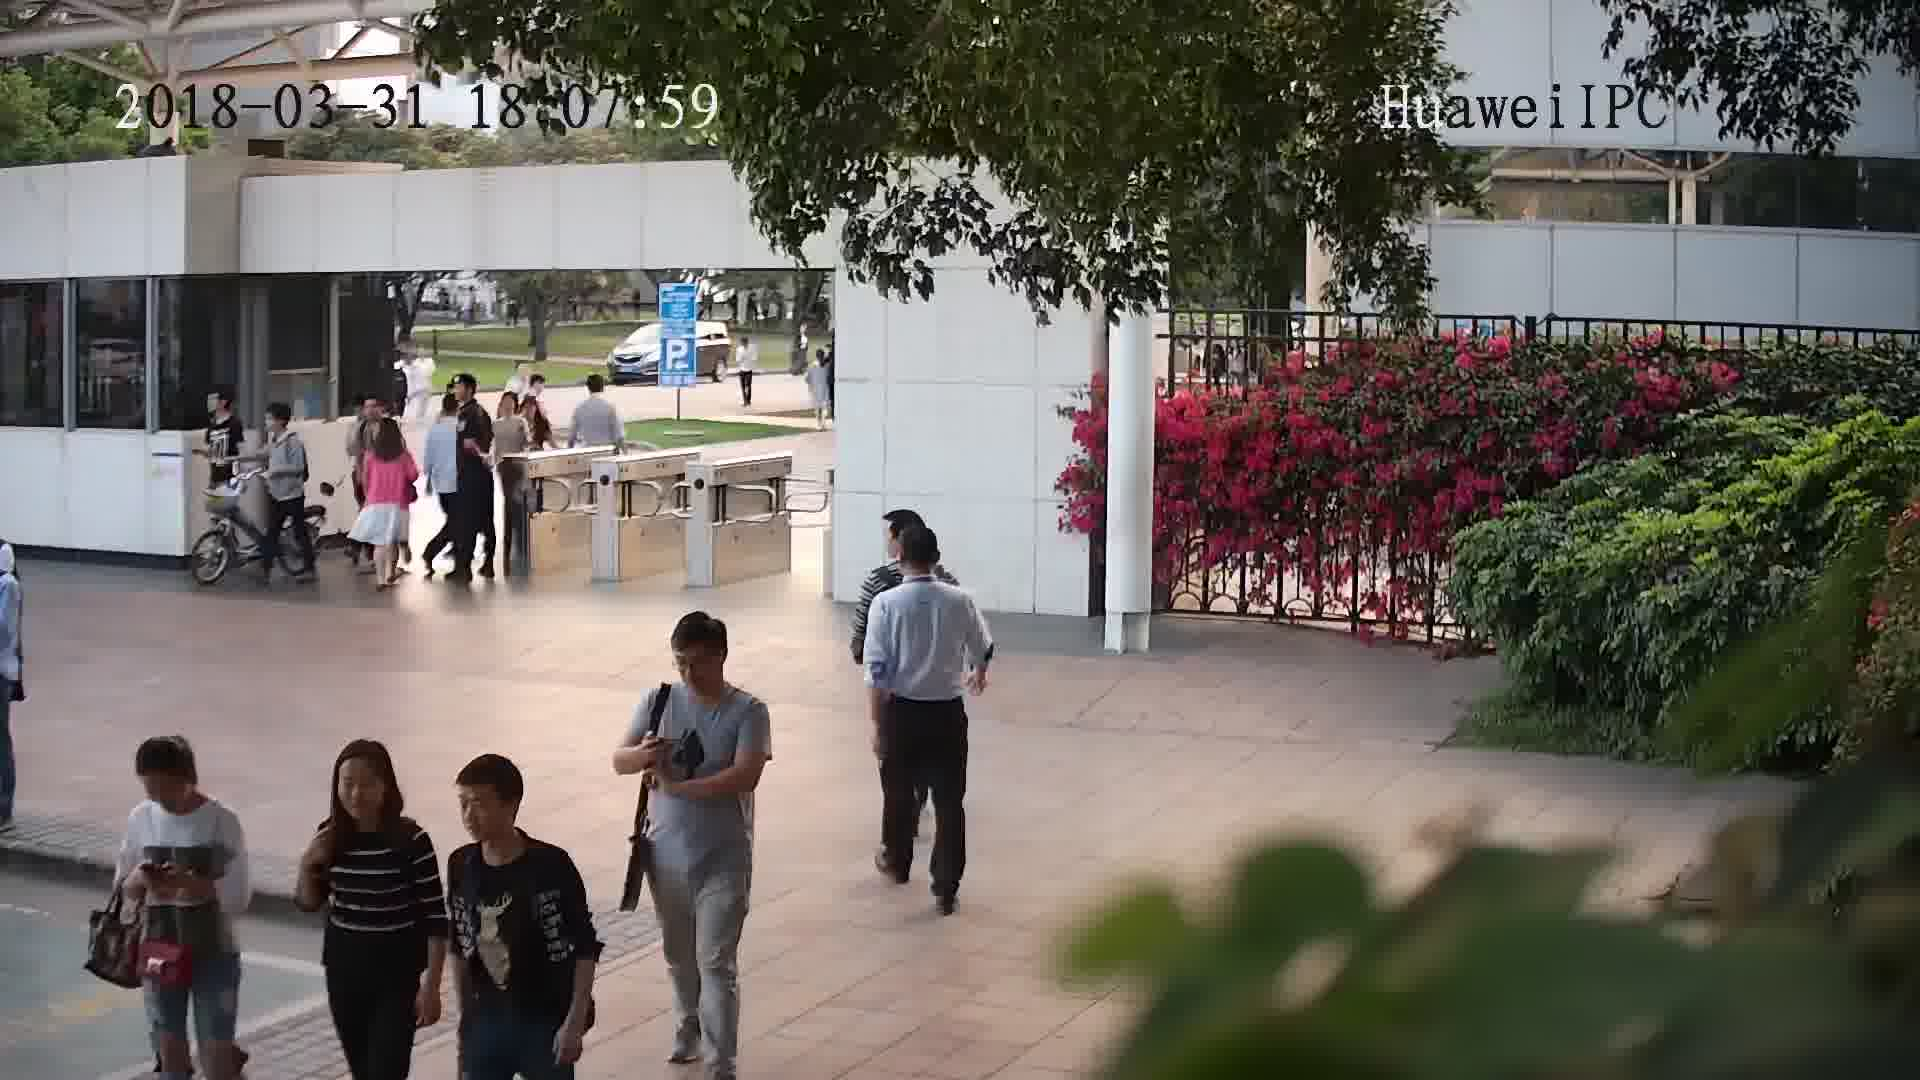face: (327, 752, 393, 818), (451, 777, 515, 841), (673, 642, 723, 693), (143, 763, 191, 811)
person: (444, 750, 577, 888), (640, 607, 765, 733), (308, 735, 432, 859), (119, 732, 239, 841), (872, 522, 977, 620), (256, 397, 304, 452), (355, 421, 414, 465), (450, 369, 492, 426), (571, 372, 619, 420), (200, 381, 243, 434), (341, 390, 392, 433), (424, 391, 463, 445), (488, 386, 528, 433), (514, 390, 550, 435)
